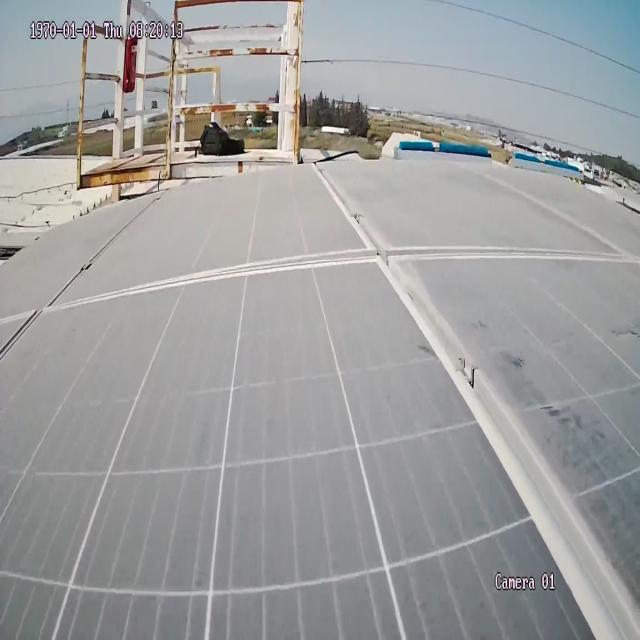interior panel: (0, 160, 640, 640)
